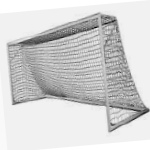goals: (6, 10, 150, 137)
